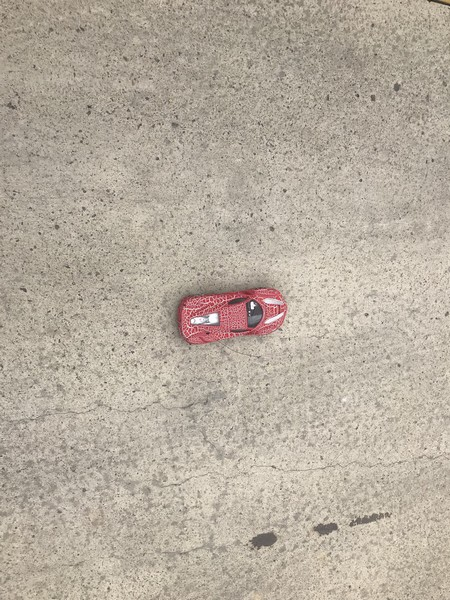RC: (176, 287, 291, 345)
